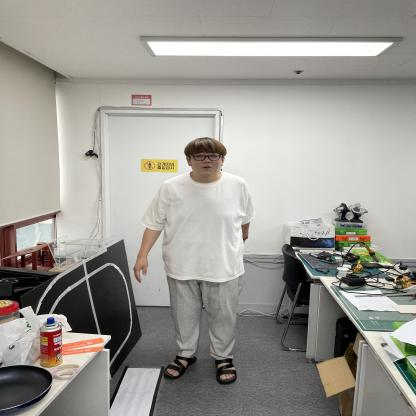normal: (135, 134, 256, 384)
